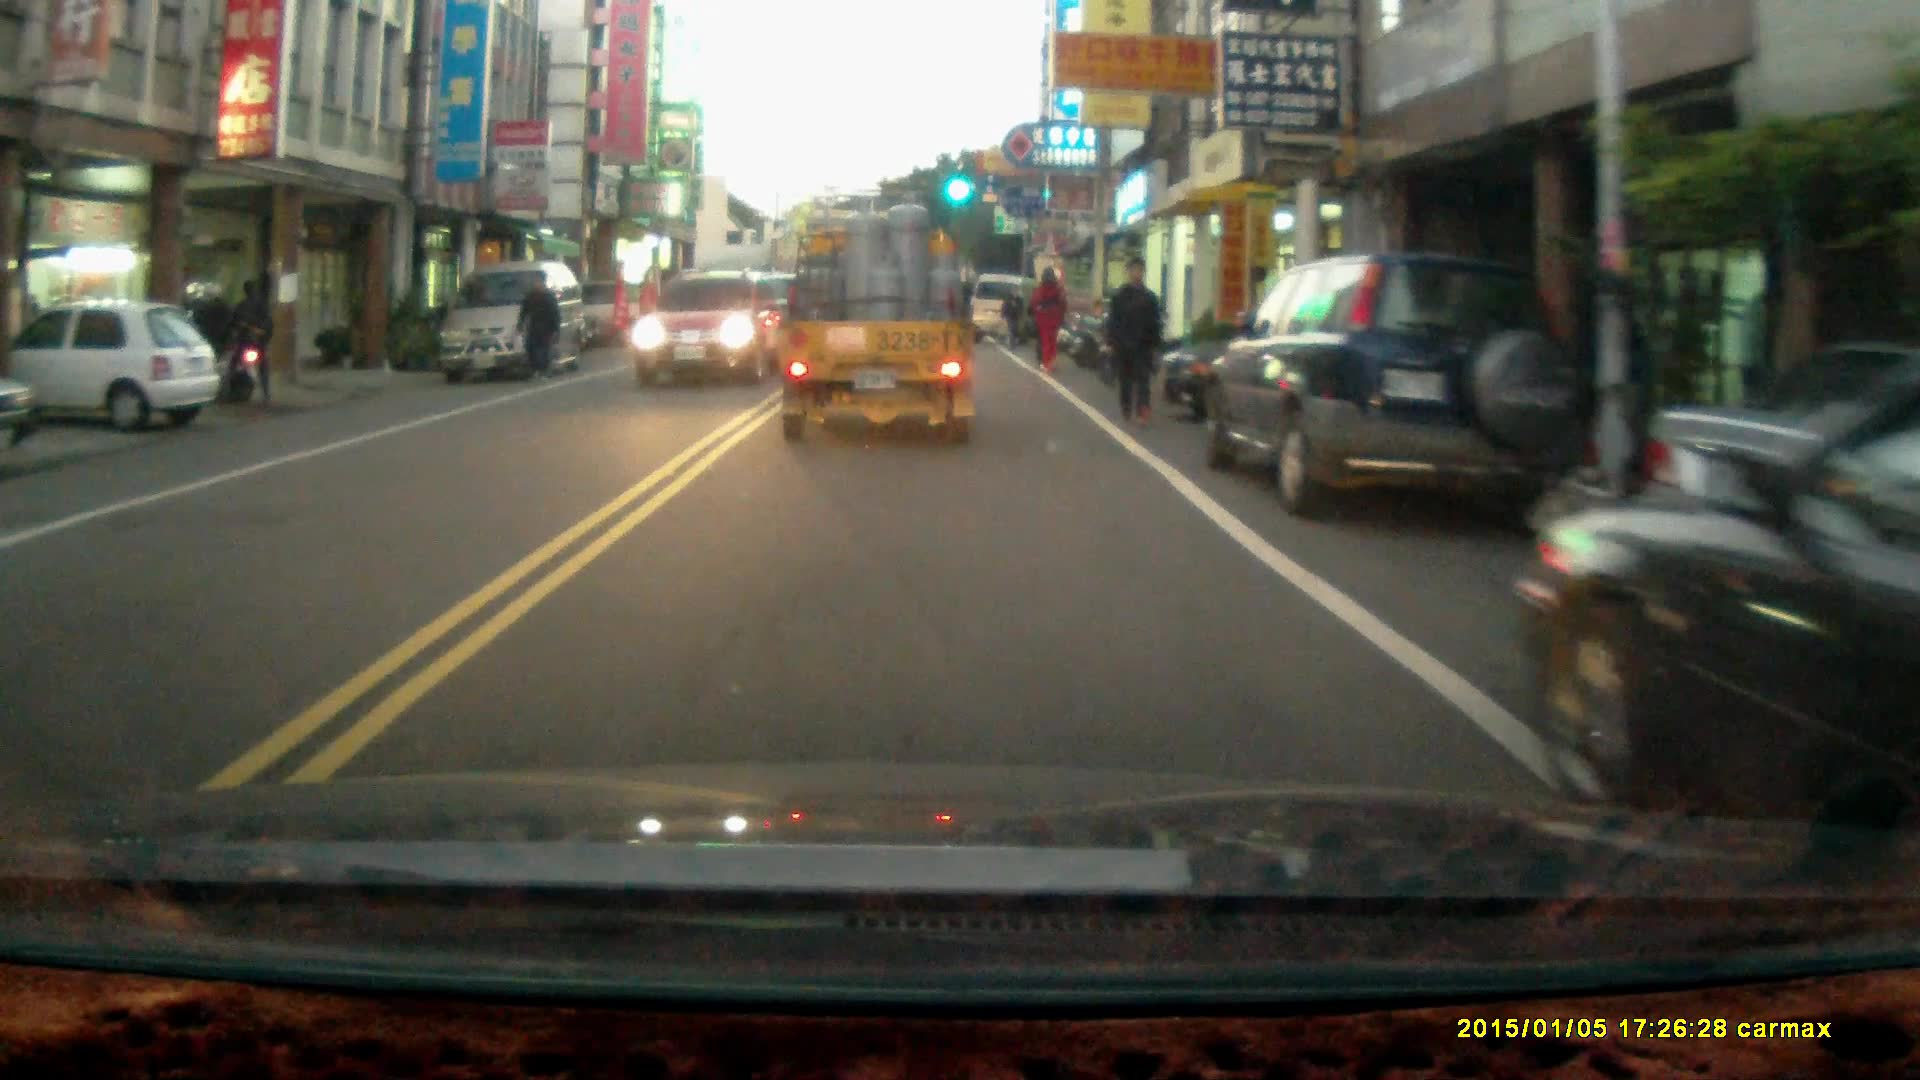pedestrian: (1103, 252, 1167, 426), (230, 271, 277, 400), (515, 271, 561, 387), (1027, 263, 1065, 373), (997, 284, 1026, 350)
rider: (168, 278, 255, 407)
vehicle: (1513, 382, 1920, 839), (1205, 250, 1586, 521), (773, 190, 979, 450), (1, 300, 229, 437), (437, 259, 589, 378), (631, 275, 773, 387)
